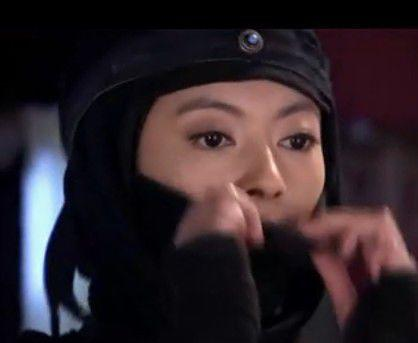WRONG: (120, 91, 328, 277)
